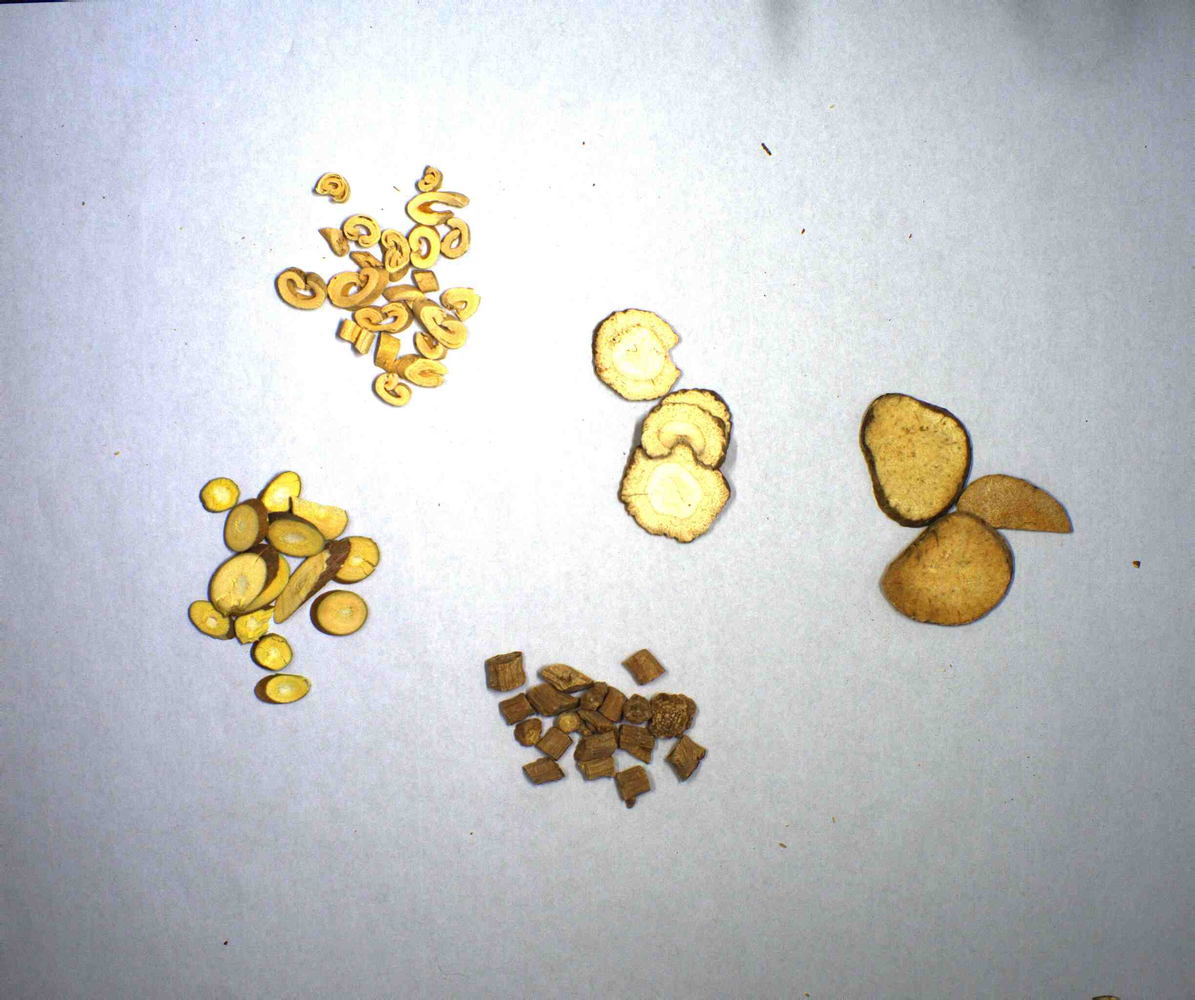baixianpi: (273, 166, 479, 404)
baizhi: (592, 305, 742, 547)
niuxi: (483, 646, 718, 808)
sangzhi: (188, 473, 384, 707)
zexie: (856, 392, 1081, 629)
